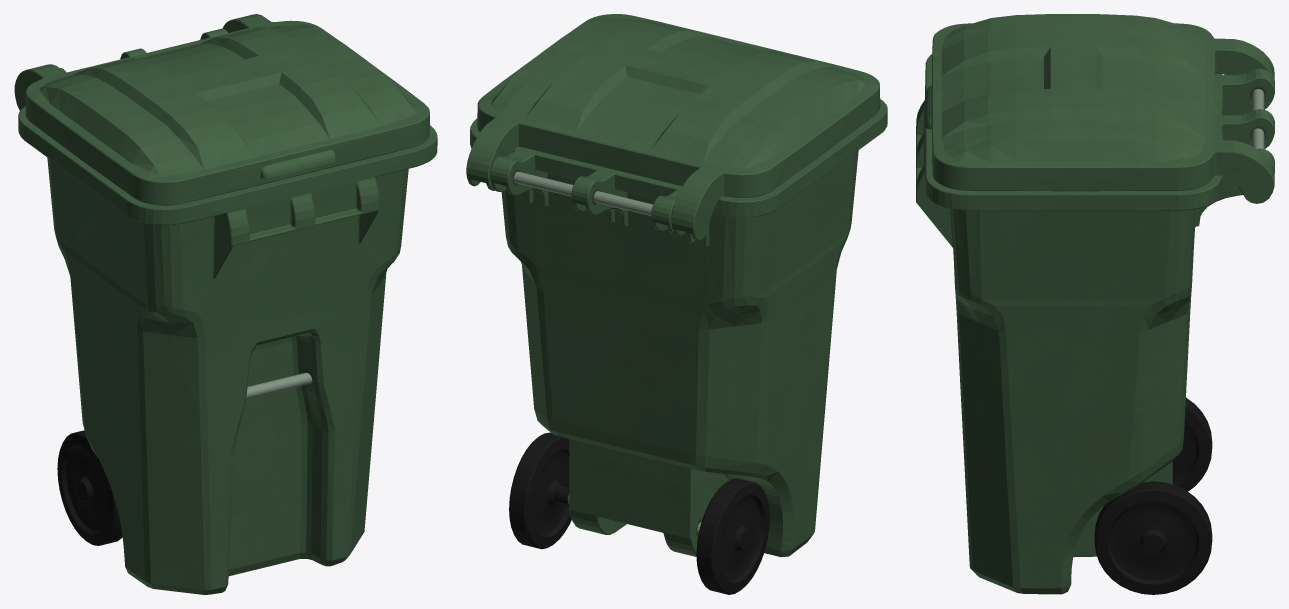
The model's file is contenedor_verde_reciclaje.glb.
3 renders of one model, left to right at view 1: azimuth 30°, elevation 25°; view 2: azimuth 150°, elevation 25°; view 3: azimuth 270°, elevation 25°, orthographic.
Visible parts, largest first — view 1: can_yardwaste_realistic_lod0; view 2: can_yardwaste_realistic_lod0; view 3: can_yardwaste_realistic_lod0.
Part boxes in pixels (<box>): can_yardwaste_realistic_lod0: <box>14,14,437,594</box>; can_yardwaste_realistic_lod0: <box>466,14,887,594</box>; can_yardwaste_realistic_lod0: <box>916,14,1274,594</box>.
Size of the model in its own units: 0.8232 by 1.22 by 0.8304.
Materials: 1 (1 with a texture image).
